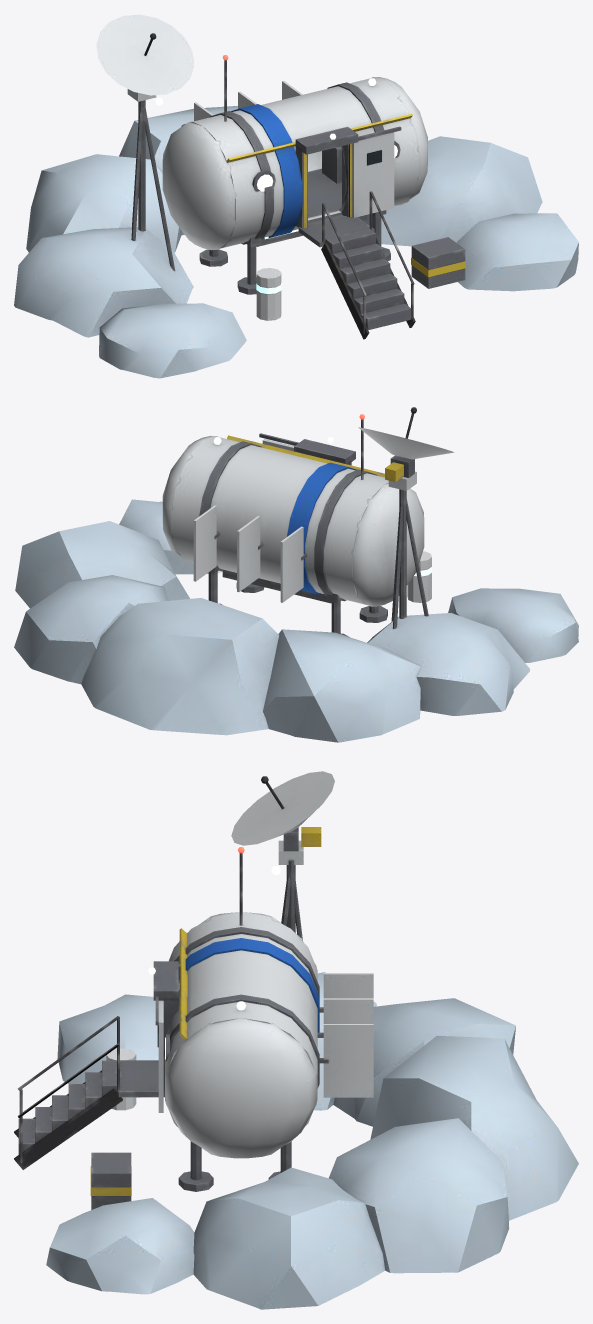
Rendered from sensor.glb.
3 renders of one model, top to bottom at view 1: azimuth 30°, elevation 25°; view 2: azimuth 150°, elevation 25°; view 3: azimuth 270°, elevation 25°, orthographic. The views are drawn at different scales.
Visible parts, largest first — view 1: hull, spin.y.12.0, lights; view 2: hull, spin.y.12.0; view 3: hull, spin.y.12.0.
Boxes of the visible parts, x1,y1,x2,y2 form: hull: (14, 60, 578, 378); spin.y.12.0: (96, 14, 194, 95); lights: (155, 55, 397, 293); hull: (14, 419, 578, 742); spin.y.12.0: (358, 407, 454, 482); hull: (14, 840, 578, 1309); spin.y.12.0: (231, 771, 334, 851).
Size of the model in its own units: 13.72 by 6.84 by 11.3.
Materials: 15 (10 with a texture image).
